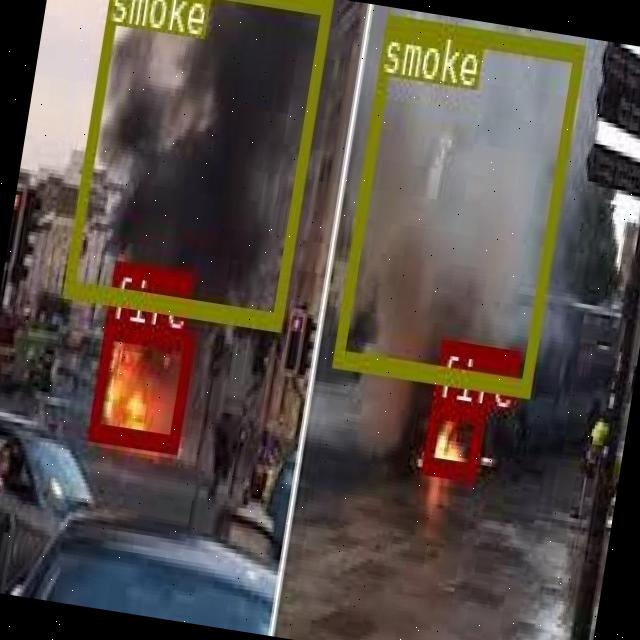fire: (88, 317, 195, 450), (422, 398, 484, 476)
smoke: (332, 11, 582, 394), (61, 0, 330, 328)
